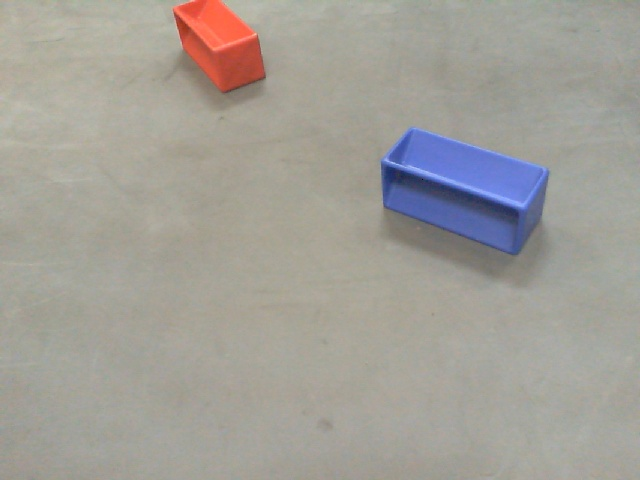BlueSample: (374, 110, 556, 255)
RedSample: (169, 1, 268, 95)
